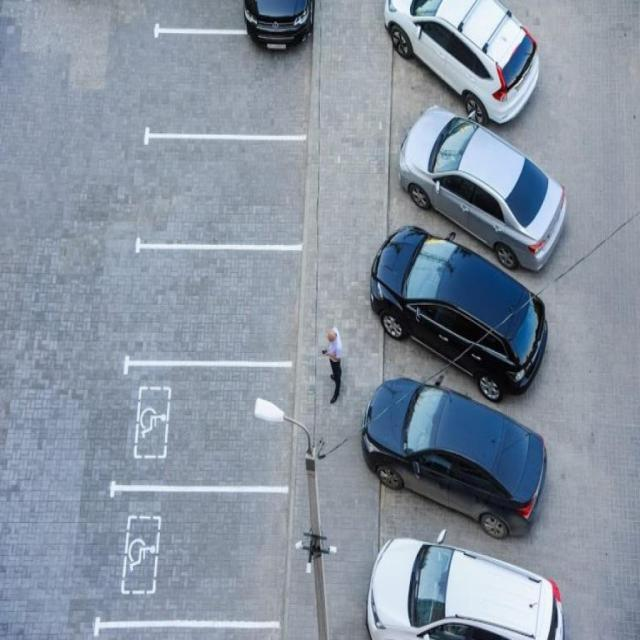empty: (101, 494, 291, 622), (116, 367, 298, 487), (128, 248, 306, 359), (138, 140, 308, 246)
occupied: (145, 30, 309, 138)
